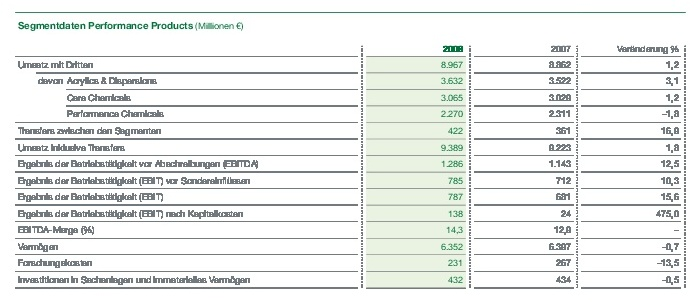table: (0, 0, 698, 302)
